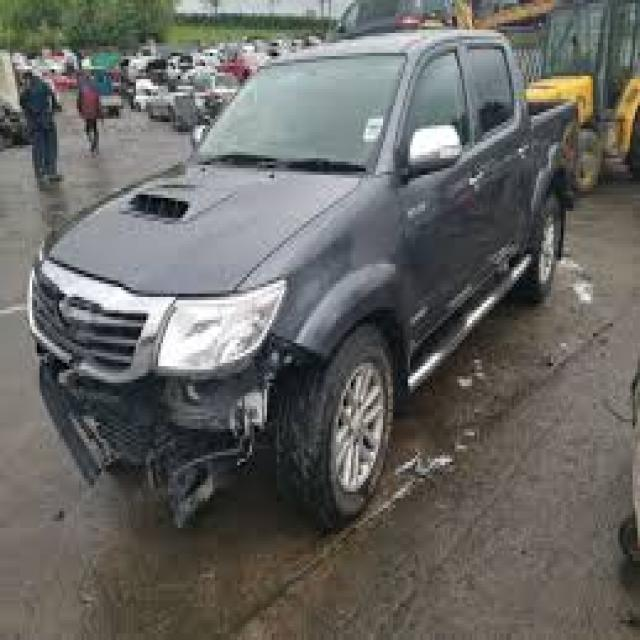moderate: (27, 280, 322, 545)
